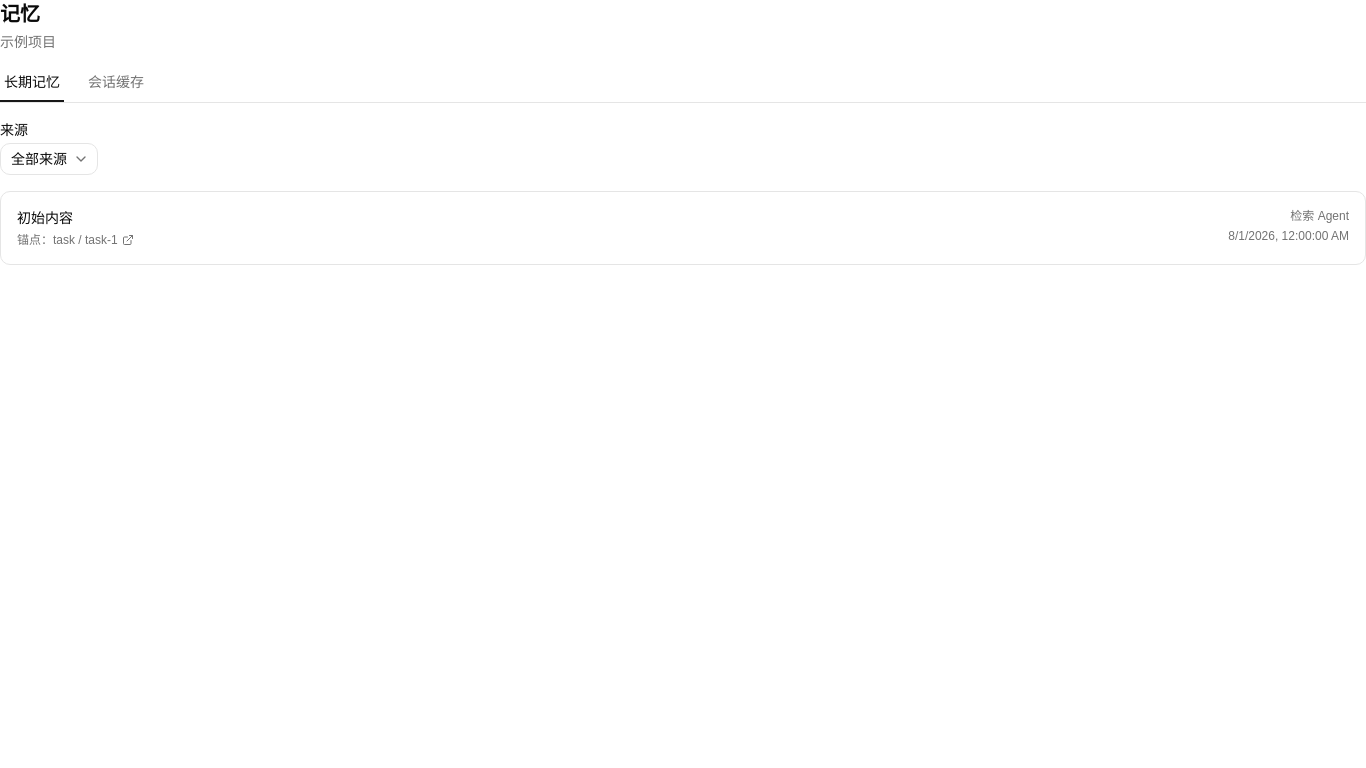
记忆管理页 › 将长期记忆作为默认页，并在详情抽屉中确认删除
Check: the text "初始内容" is shown, box top-left (17, 210), bottom-right (73, 226)
Check: the text "锚点：" is shown, box top-left (17, 233), bottom-right (53, 247)
What coordinates should you click on to do the following:
click the button with aria-label "查看记忆详情 memory-1"
I would click on:
 (45, 218)
Its box is top-left (17, 209), bottom-right (1349, 247).
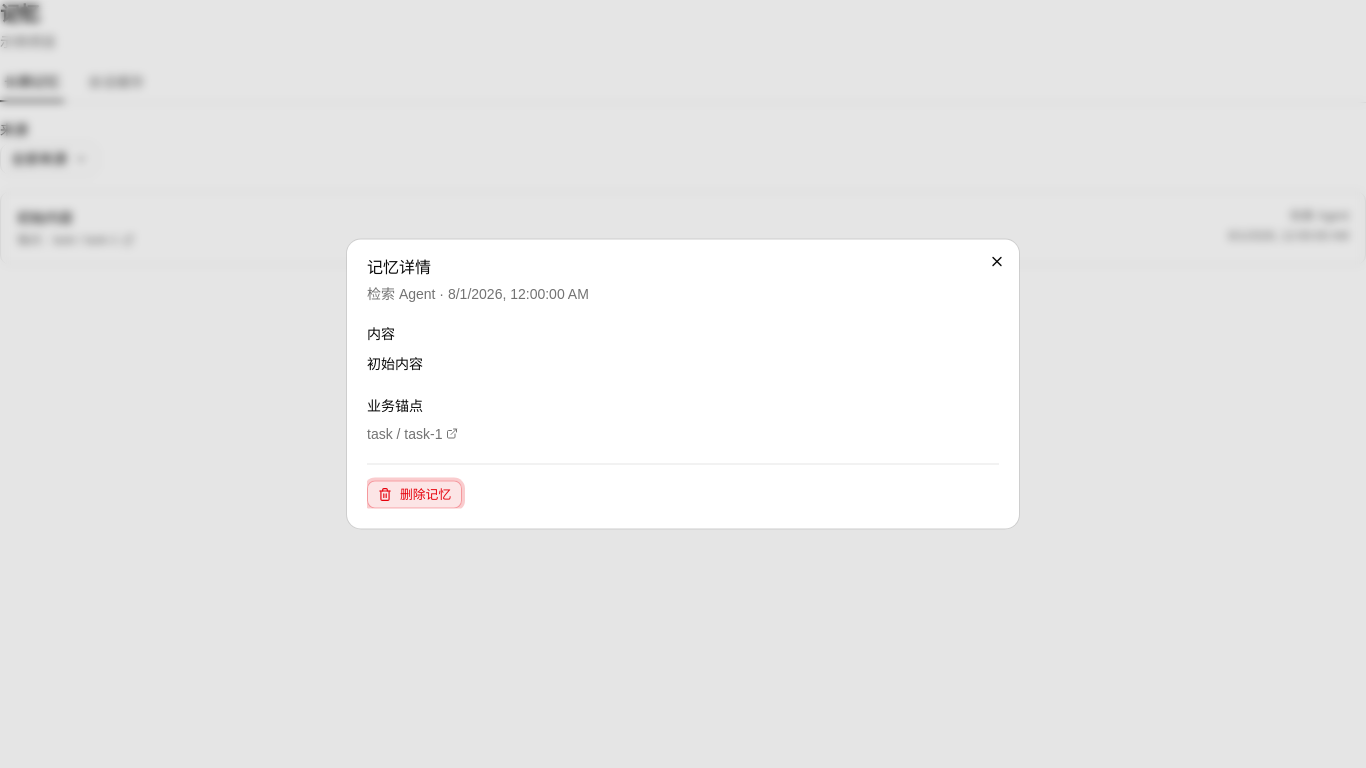
Check: the heading "记忆详情" is shown, box top-left (367, 258), bottom-right (431, 276)
What coordinates should you click on to do the following:
click the button "删除记忆"
I would click on:
 (415, 494)
Its box is top-left (367, 480), bottom-right (462, 508).
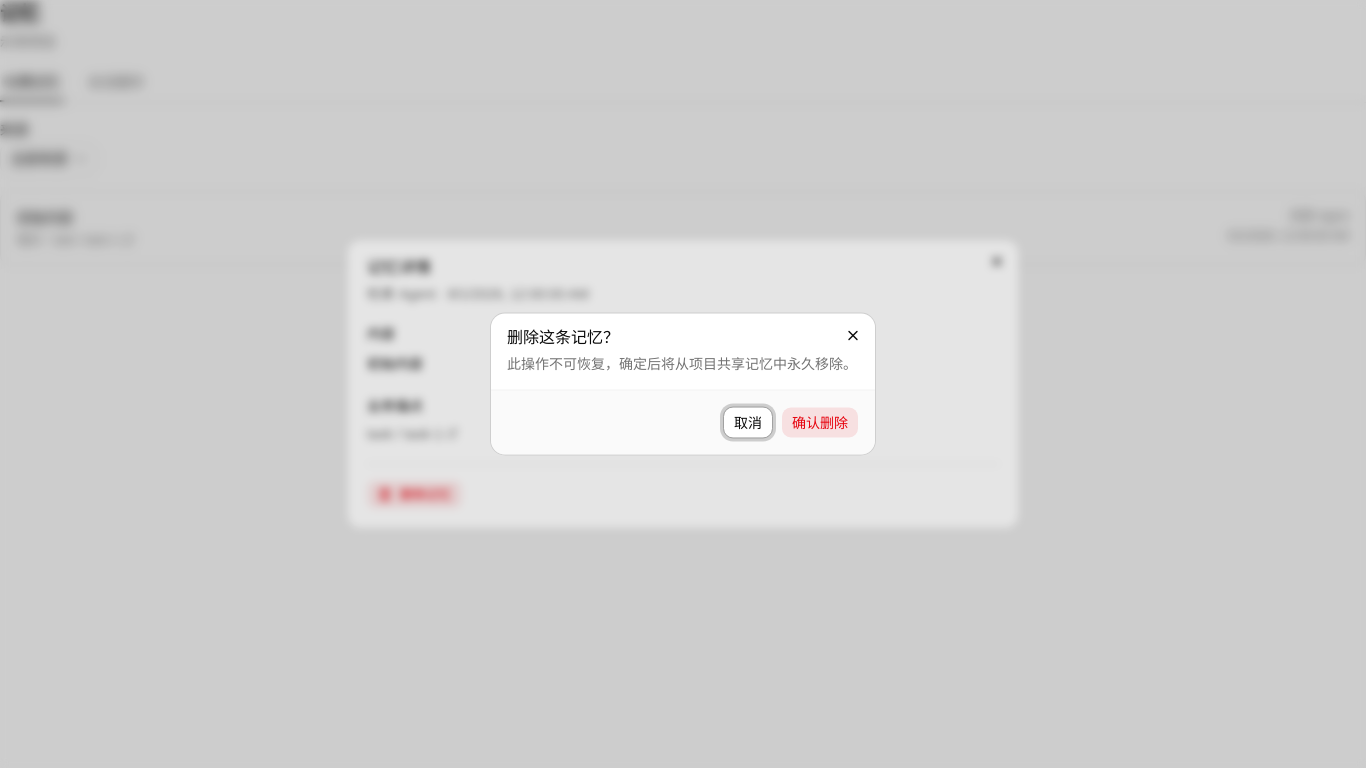
Check: the heading "删除这条记忆？" is shown, box top-left (507, 328), bottom-right (619, 346)
